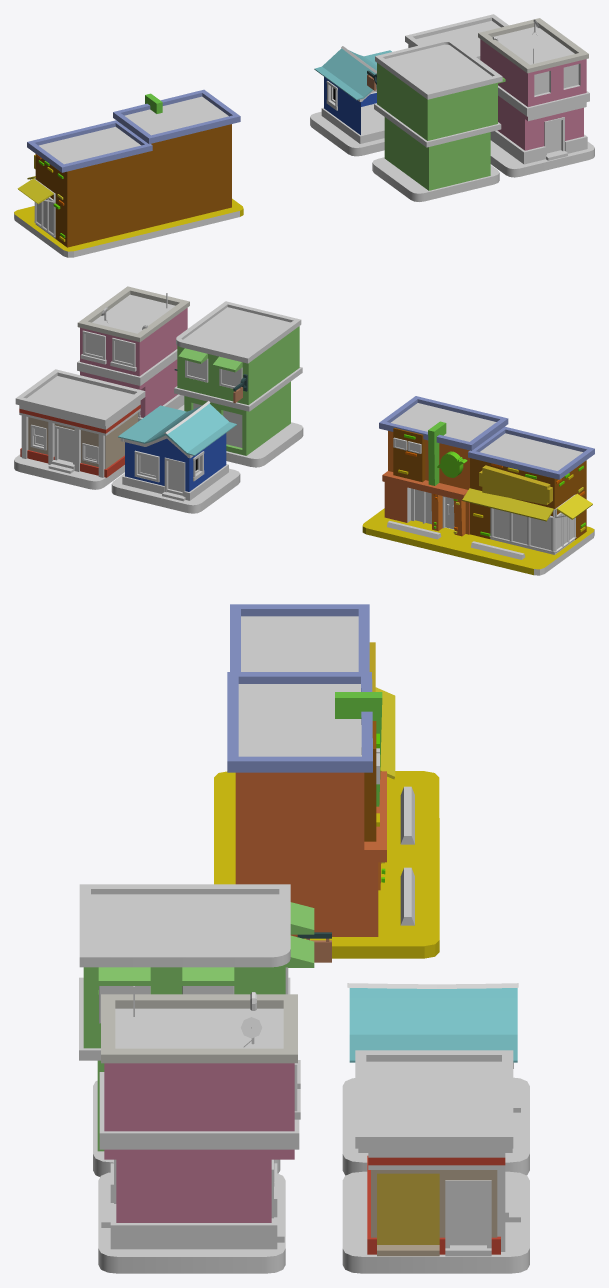
Rendered from pollo_campero_m.fbx.
3 renders of one model, top to bottom at view 1: azimuth 30°, elevation 25°; view 2: azimuth 150°, elevation 25°; view 3: azimuth 270°, elevation 25°, orthographic. The views are drawn at different scales.
Visible parts, largest first — view 1: pollo_campero_m; view 2: pollo_campero_m; view 3: pollo_campero_m.
Part boxes in pixels (<box>): pollo_campero_m: <box>14,14,594,257</box>; pollo_campero_m: <box>14,286,594,575</box>; pollo_campero_m: <box>79,604,529,1273</box>.
Bounding box in the file's own units: 3214 × 693 × 1218.
